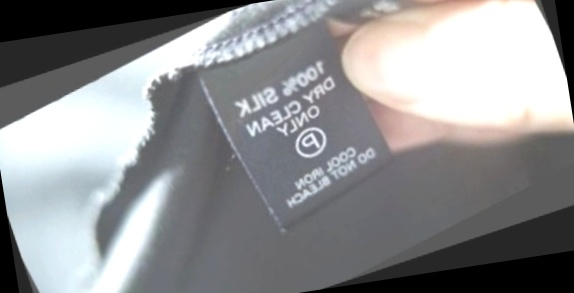dry_clean_any_solvent_except_trichloroethylene: (285, 119, 334, 166)
